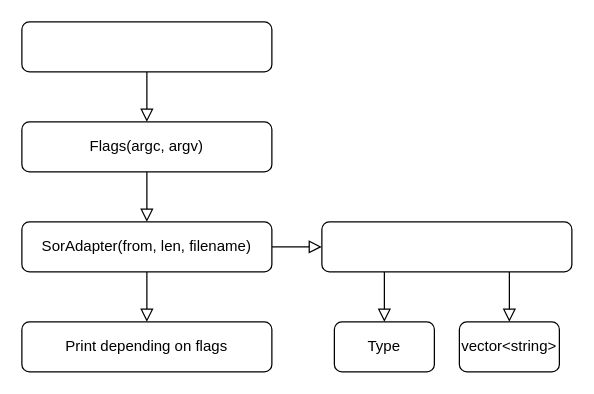
The diagram is 594 pixels wide and 394 high, and some of its shapes have lost their labels. Each missing label, with the centre of its shape:
Column: point (446, 246)
main(int argc, char**argv): point (146, 46)
